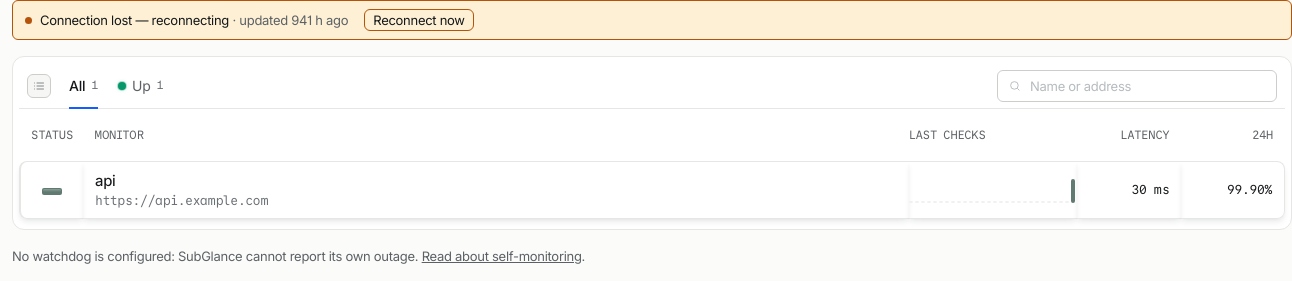
Test: LiveDashboard › when the stream dies › clears the warning when the stream comes back, without a reload
Check: the link "api" is shown, box [95,171,116,190]
Check: the text "Connection lost — reconnecting · updated 941 h ago" is shown, box [40,12,348,28]
Click the button "Reconnect now" at (419, 20), box [364,9,474,31]
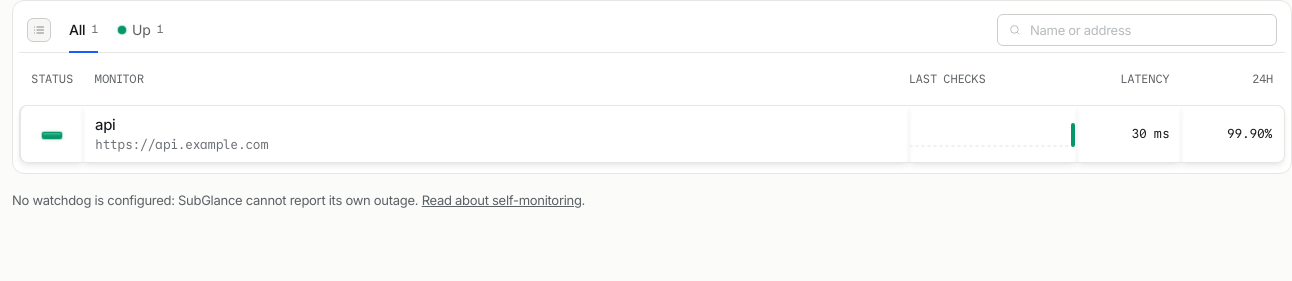
Check: the text "Connection lost" is gone
